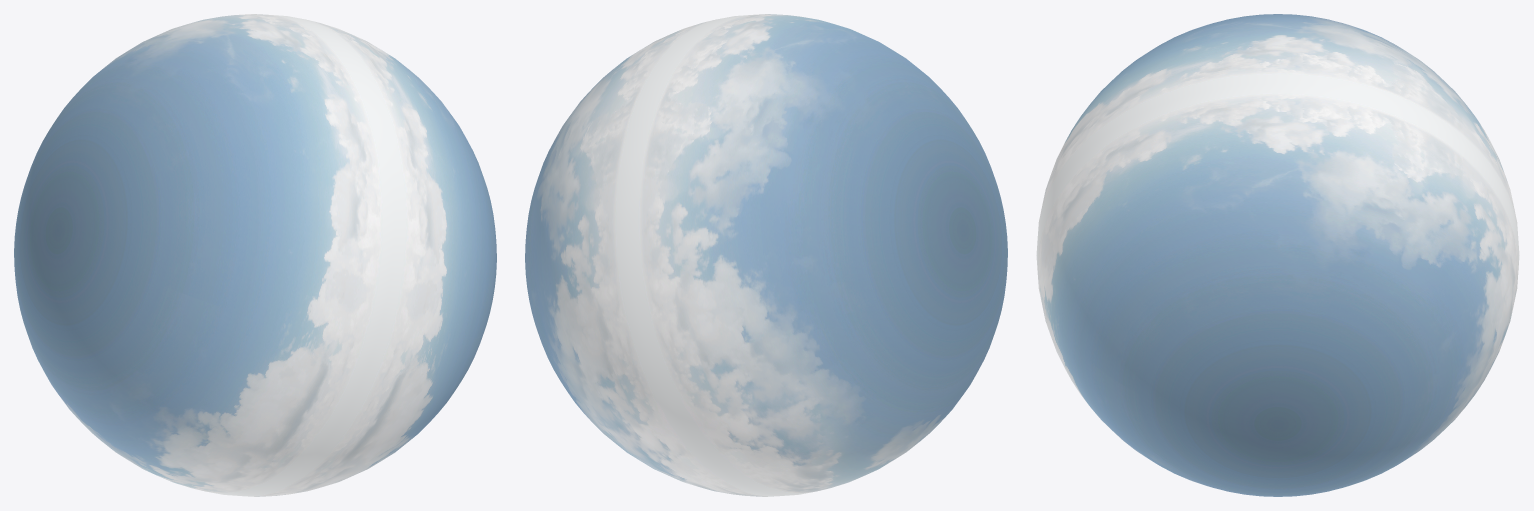
File: sky1.glb
The picture shows the model from 3 angles, left to right: view 1: azimuth 30°, elevation 25°; view 2: azimuth 150°, elevation 25°; view 3: azimuth 270°, elevation 25°; orthographic projection.
Visible parts, largest first — view 1: Object_2; view 2: Object_2; view 3: Object_2.
Part boxes in pixels (<box>): Object_2: <box>14,14,496,496</box>; Object_2: <box>525,14,1007,496</box>; Object_2: <box>1036,14,1519,496</box>.
Size of the model in its own units: 81.84 by 81.84 by 81.92.
Materials: 1 (1 with a texture image).
